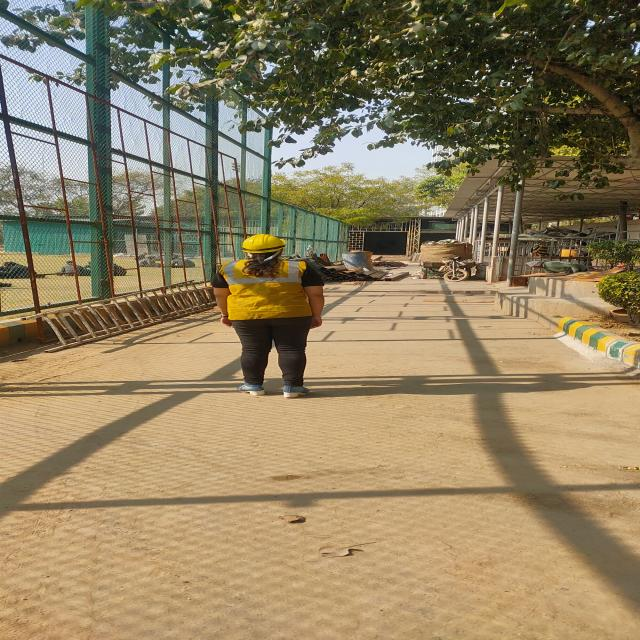safe: (214, 234, 324, 398)
unsafe: (526, 261, 587, 272), (0, 261, 29, 278), (61, 261, 81, 276)
